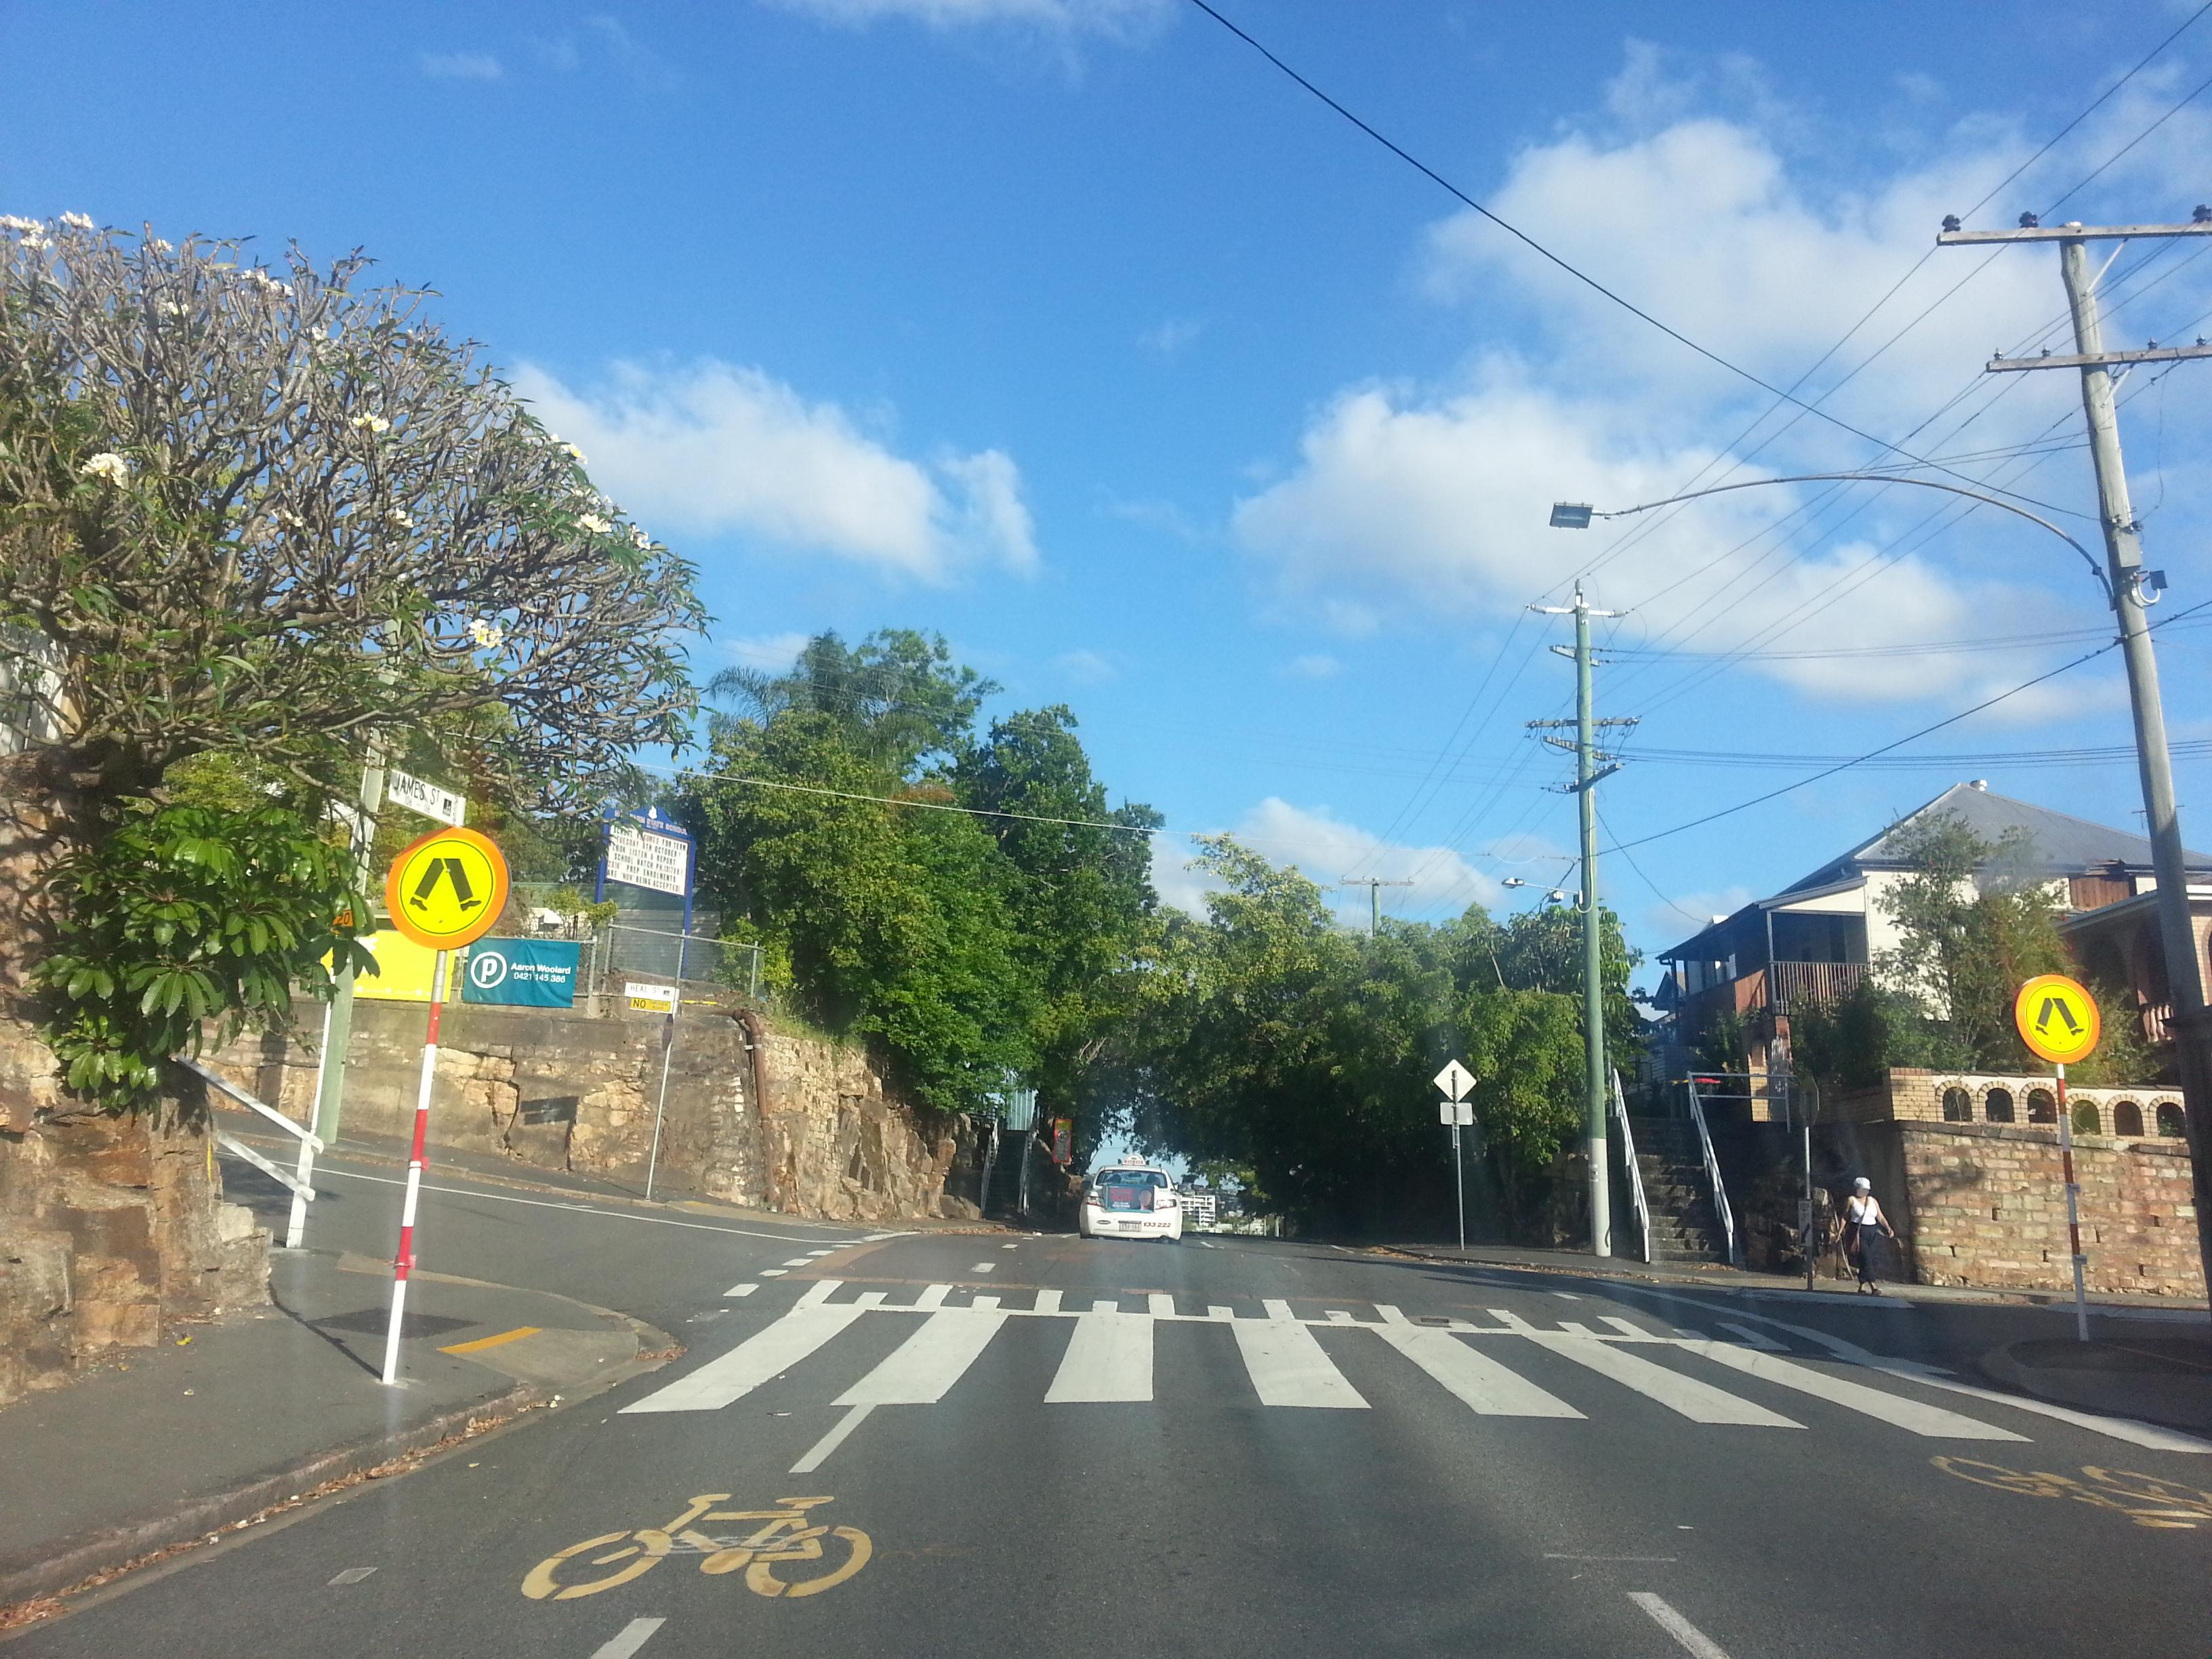vinyl banner: (456, 922, 603, 1030)
